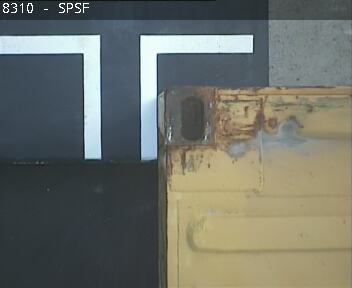groundmarker_1: (1, 33, 253, 161)
